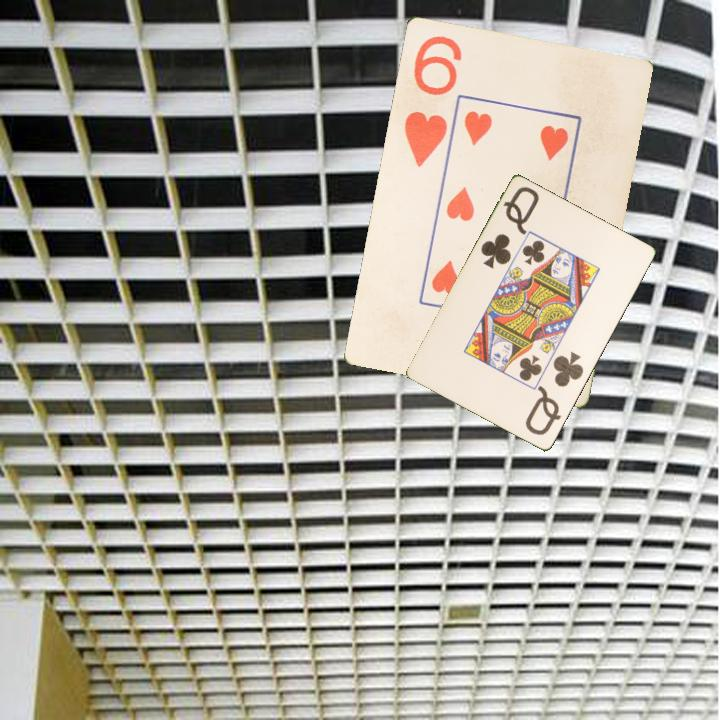6h: (400, 31, 464, 170)
Qc: (522, 348, 587, 439), (477, 183, 542, 272)
